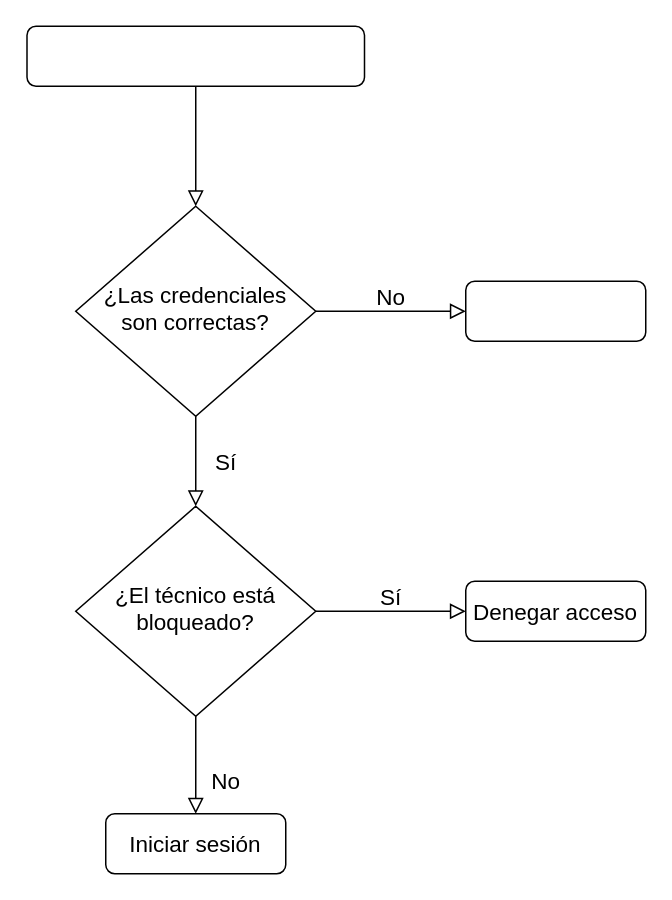
Some shapes in this 672 by 900 pixel diagram are drawn without their labels. Each missing label, with the centre of its shape:
El técnico quiere iniciar sesión: point 195,55
Solicitar credenciales: point 555,310
